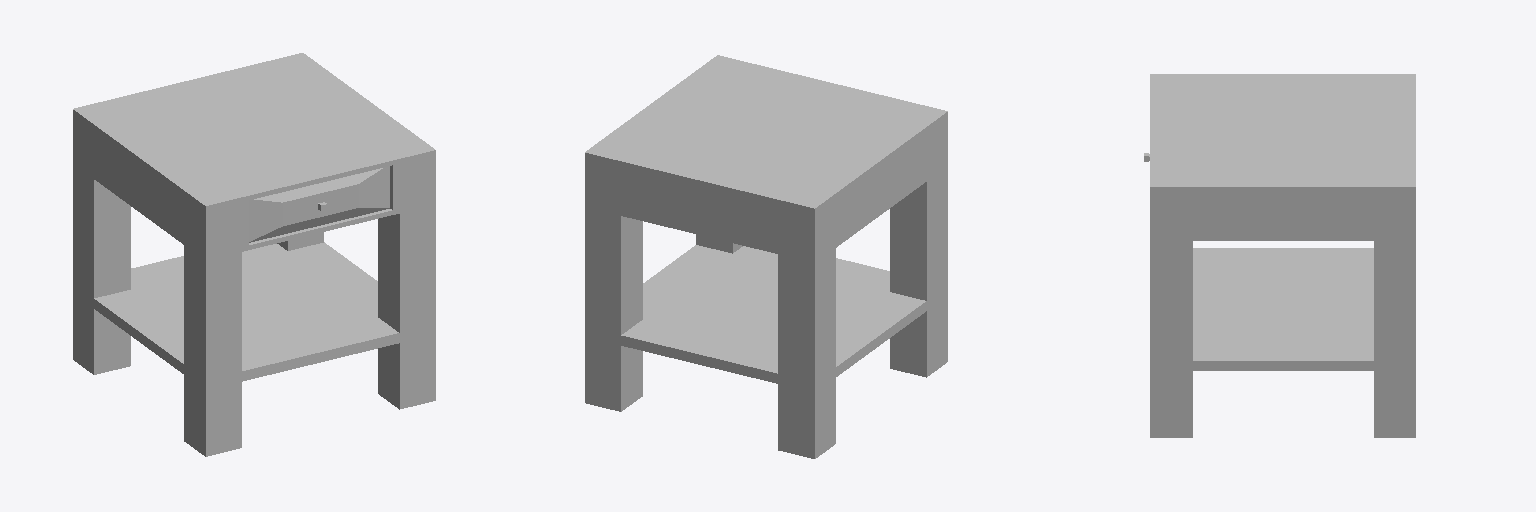
File: EndTable.obj
3 views of the same model, side by side, from view 1: azimuth 30°, elevation 25°; view 2: azimuth 150°, elevation 25°; view 3: azimuth 270°, elevation 25° (orthographic).
Visible parts, largest first — view 1: EndTable:pCube1; view 2: EndTable:pCube1; view 3: EndTable:pCube1.
Boxes of the visible parts, x1=… form: EndTable:pCube1: x1=73, y1=53, x2=435, y2=456; EndTable:pCube1: x1=585, y1=55, x2=947, y2=458; EndTable:pCube1: x1=1144, y1=74, x2=1415, y2=437.
Size of the model in its own units: 61.98 by 64.41 by 63.53.